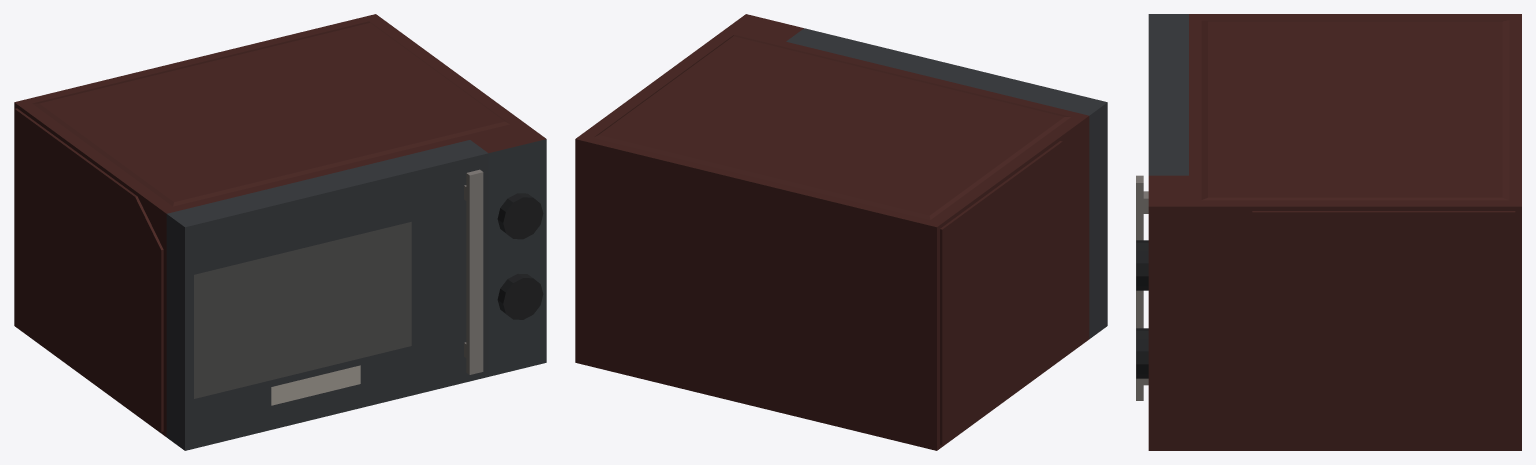
Rendered from microwavewitchverticalhandle_01_C.gltf.
3 renders of one model, left to right at view 1: azimuth 30°, elevation 25°; view 2: azimuth 150°, elevation 25°; view 3: azimuth 270°, elevation 25°, orthographic. The views are drawn at different scales.
Parts seen in each view (by area): view 1: microwavewitchverticalhandle_01_C, Doorformicrowavewitchverticalhandle_01_C, Switchformicrowavewitchverticalhandle_01_C, Switchformicrowavewitchverticalhandle_02_C; view 2: microwavewitchverticalhandle_01_C, Doorformicrowavewitchverticalhandle_01_C; view 3: microwavewitchverticalhandle_01_C, Doorformicrowavewitchverticalhandle_01_C, Switchformicrowavewitchverticalhandle_01_C, Switchformicrowavewitchverticalhandle_02_C.
Part boxes in pixels (<box>): microwavewitchverticalhandle_01_C: <box>14,14,546,436</box>; Doorformicrowavewitchverticalhandle_01_C: <box>166,140,488,450</box>; Switchformicrowavewitchverticalhandle_01_C: <box>497,193,543,239</box>; Switchformicrowavewitchverticalhandle_02_C: <box>497,273,543,319</box>; microwavewitchverticalhandle_01_C: <box>575,14,1089,450</box>; Doorformicrowavewitchverticalhandle_01_C: <box>786,28,1107,338</box>; microwavewitchverticalhandle_01_C: <box>1148,14,1521,450</box>; Doorformicrowavewitchverticalhandle_01_C: <box>1136,14,1188,400</box>; Switchformicrowavewitchverticalhandle_01_C: <box>1136,240,1148,290</box>; Switchformicrowavewitchverticalhandle_02_C: <box>1136,328,1148,378</box>.
Bounding box in the file's own units: 0.446 × 0.2614 × 0.3721.
1 material, 1 textured.
